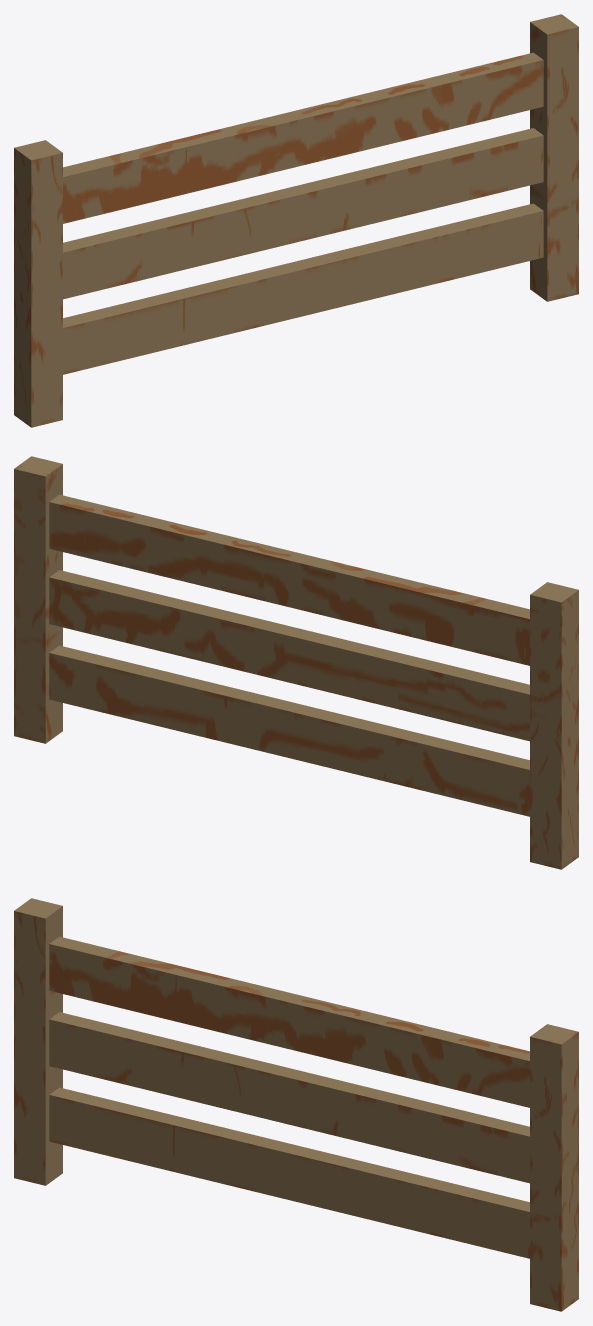
File: solowhitePicketFence.glb
3 renders of one model, top to bottom at view 1: azimuth 30°, elevation 25°; view 2: azimuth 150°, elevation 25°; view 3: azimuth 330°, elevation 25°, orthographic.
Visible parts, largest first — view 1: Cube.001; view 2: Cube.001; view 3: Cube.001.
Boxes of the visible parts, <box> form: Cube.001: <box>14,14,578,427</box>; Cube.001: <box>14,456,578,869</box>; Cube.001: <box>14,898,578,1311</box>.
Size of the model in its own units: 7.93 by 3.7 by 0.4358.
1 material, 1 textured.
